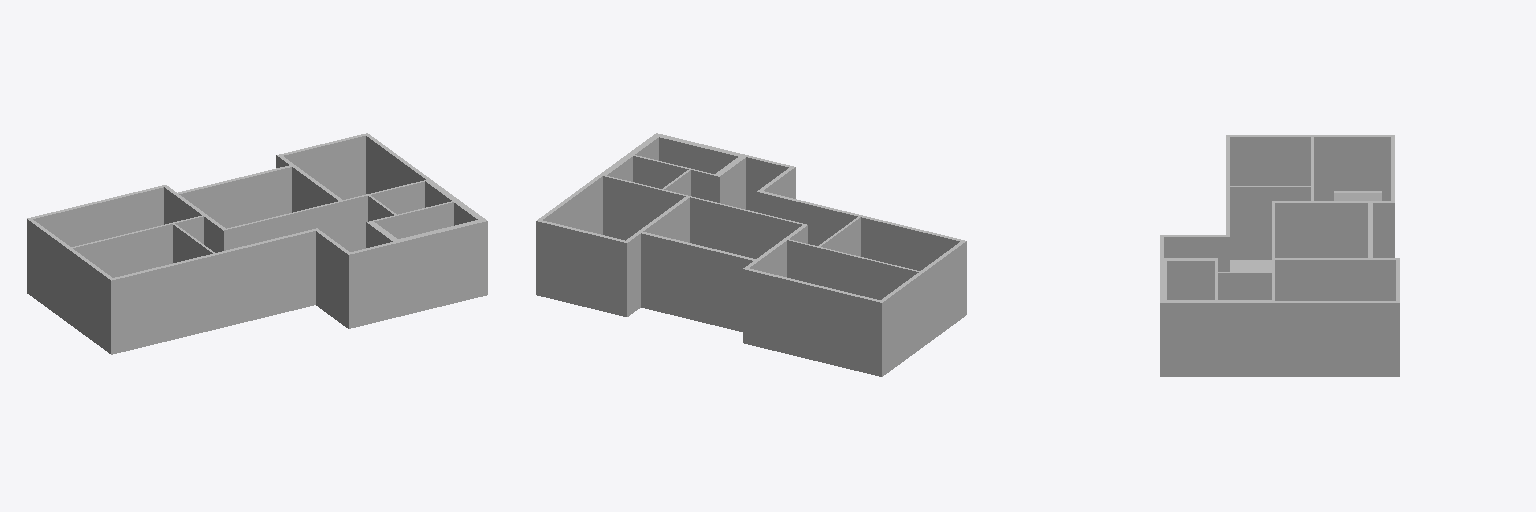
File: Комната.obj
3 renders of one model, left to right at view 1: azimuth 30°, elevation 25°; view 2: azimuth 150°, elevation 25°; view 3: azimuth 270°, elevation 25°, orthographic.
Parts seen in each view (by area): view 1: Куб; view 2: Куб; view 3: Куб.
Boxes of the visible parts, x1=… form: Куб: x1=27, y1=133, x2=487, y2=354; Куб: x1=536, y1=133, x2=966, y2=376; Куб: x1=1160, y1=135, x2=1399, y2=376.
Bounding box in the file's own units: 14.77 × 3.05 × 8.95.